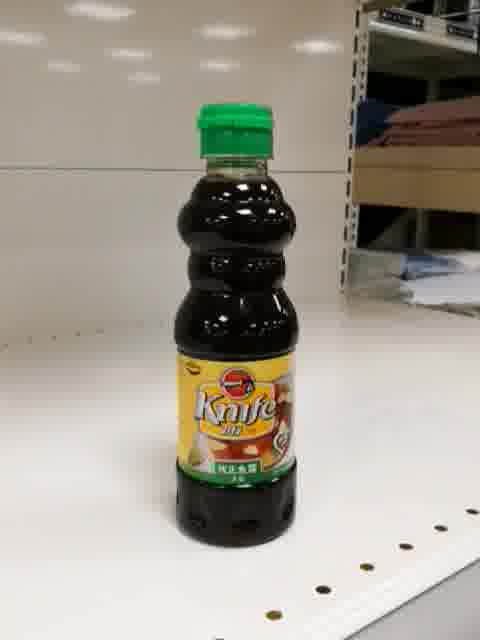cookingoil: (171, 97, 300, 551)
